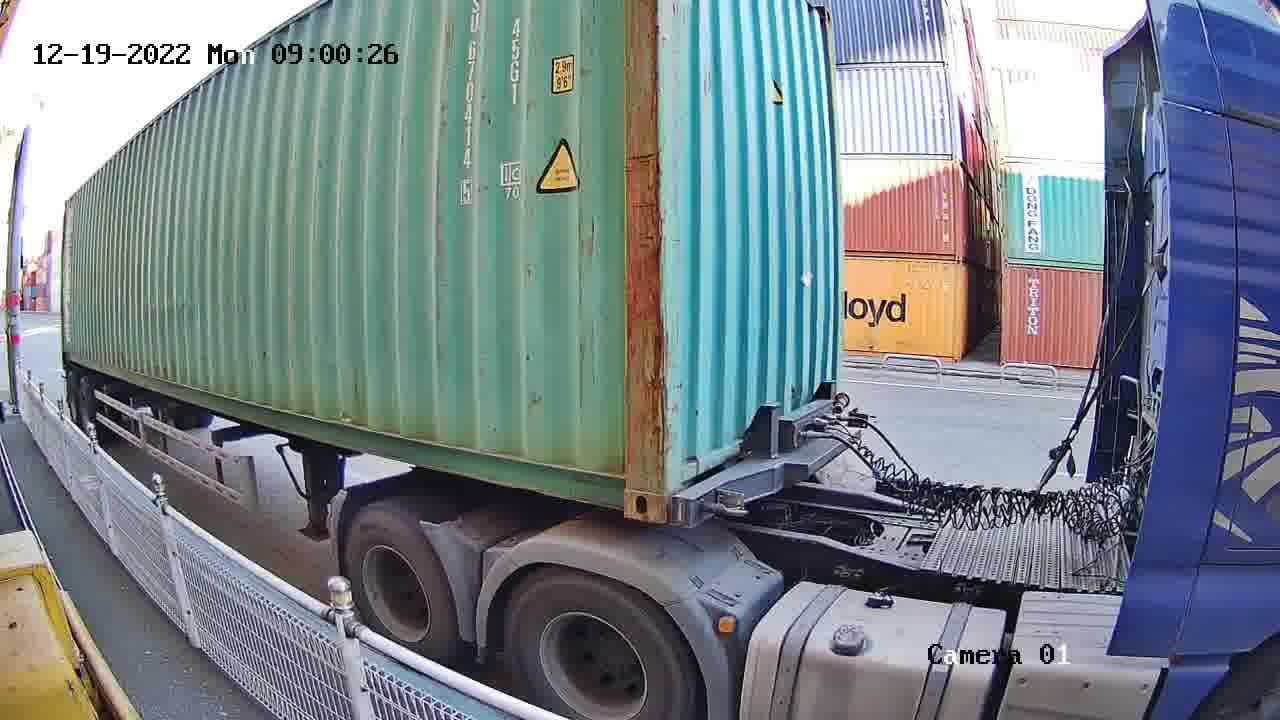Chassis: (675, 404, 869, 526)
Cone: (699, 488, 749, 523)
Hole_R: (591, 437, 665, 522)
Tire: (505, 571, 685, 717), (344, 508, 450, 657)
